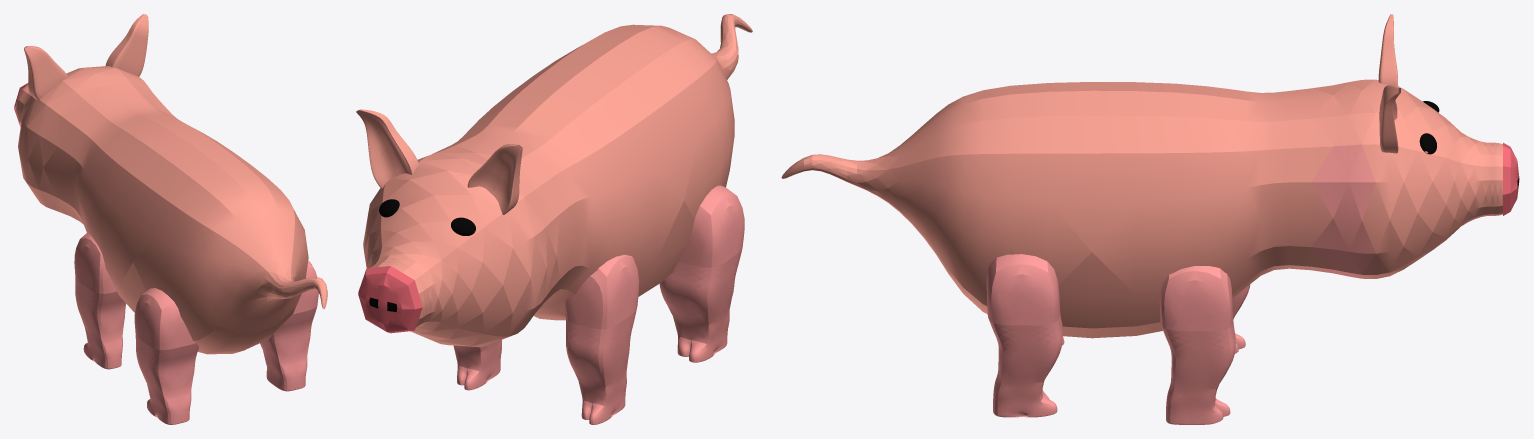
Rendered from pig_3.dae.
The picture shows the model from 3 angles, left to right: view 1: azimuth 30°, elevation 25°; view 2: azimuth 150°, elevation 25°; view 3: azimuth 270°, elevation 25°; orthographic projection. The views are drawn at different scales.
Visible parts, largest first — view 1: skpC53; view 2: skpC53; view 3: skpC53.
Boxes of the visible parts, x1,y1,x2,y2 form: skpC53: (14, 14, 327, 424); skpC53: (356, 14, 752, 424); skpC53: (781, 14, 1519, 424).
Bounding box in the file's own units: 0.3923 × 1.21 × 0.6132.
